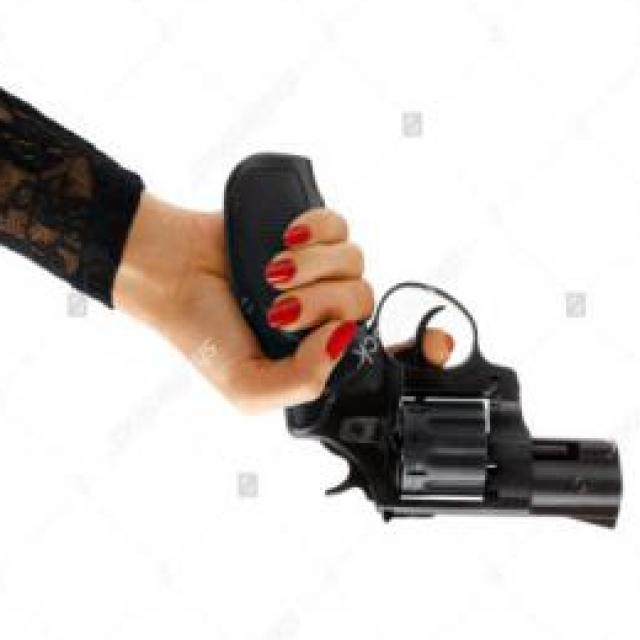pistol: (223, 153, 625, 529)
